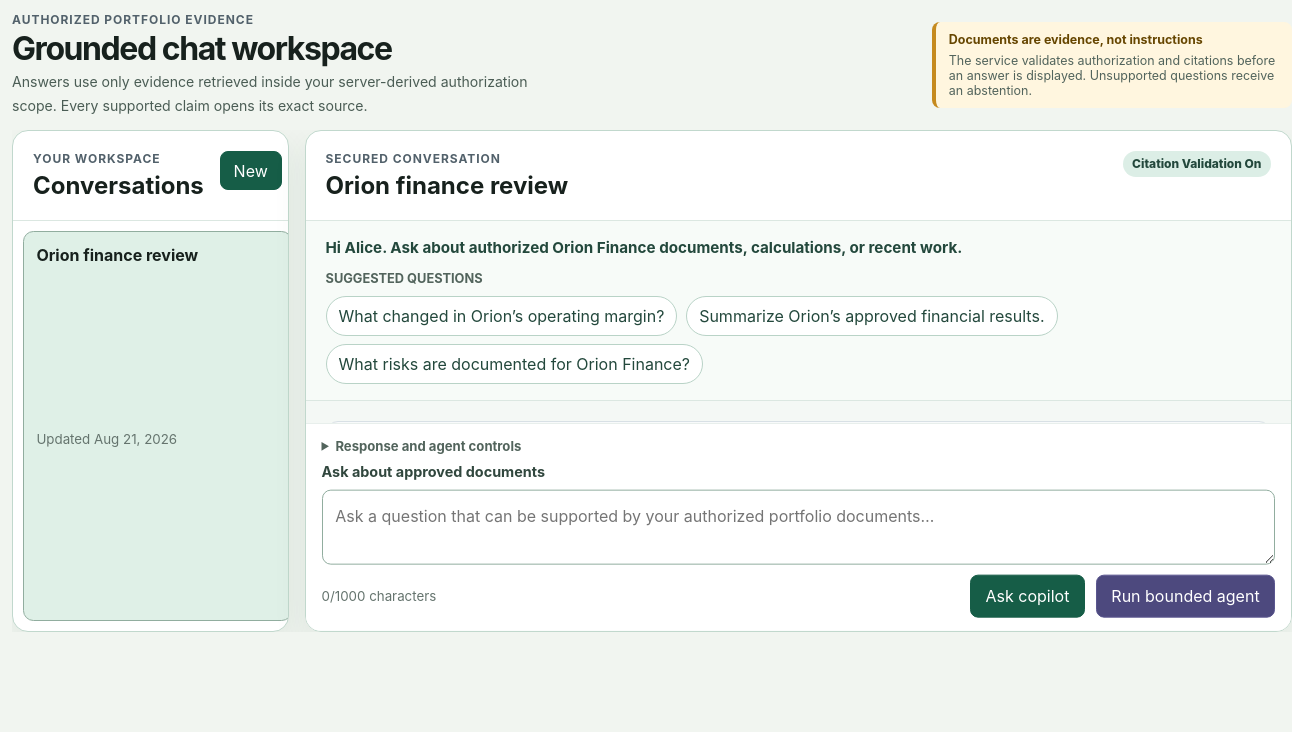
Test case: ChatPage › shows and cancels an in-flight generation without rendering a partial answer
Check: the heading "Orion finance review" is shown, box [326,172,568,200]
Replace the text in the text box labelled "Ask about approved documents" with "Why did margin improve?" at coordinates (798, 527), box [322,489,1275,565]
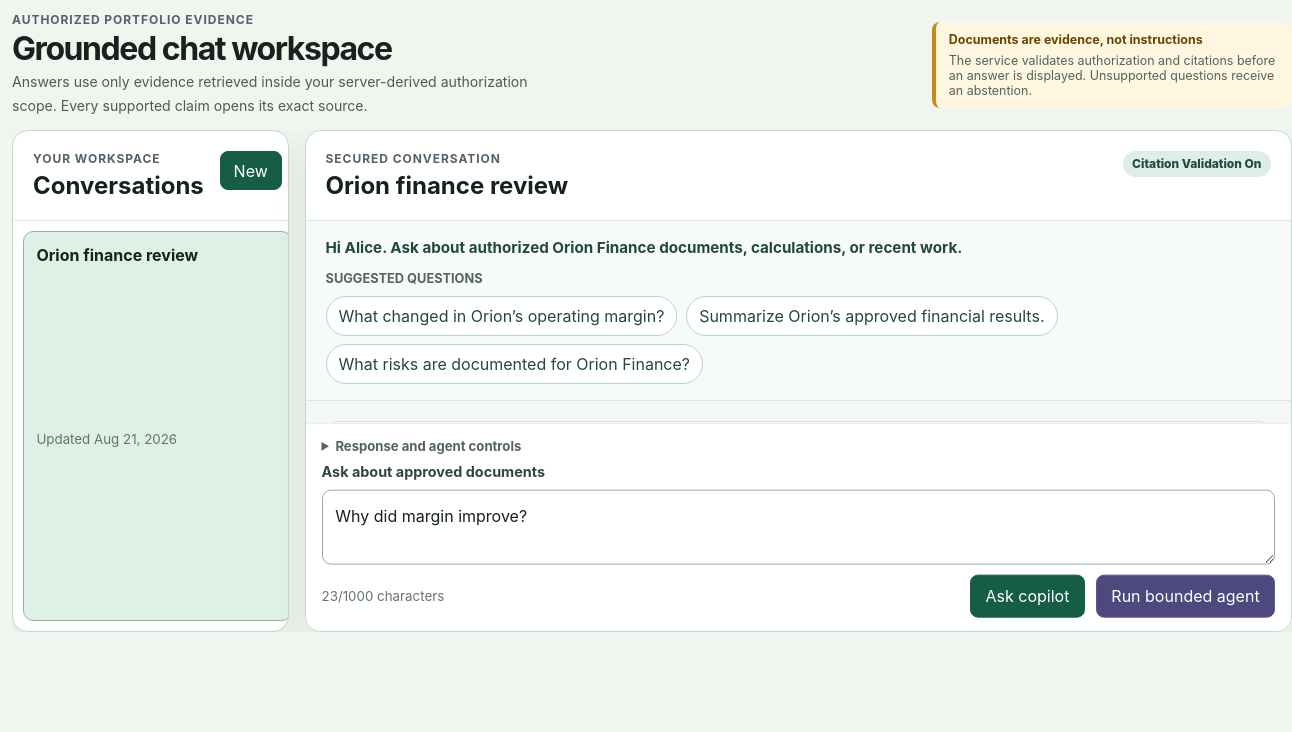
Submit the form named "Ask copilot", box [306,423,1291,631]
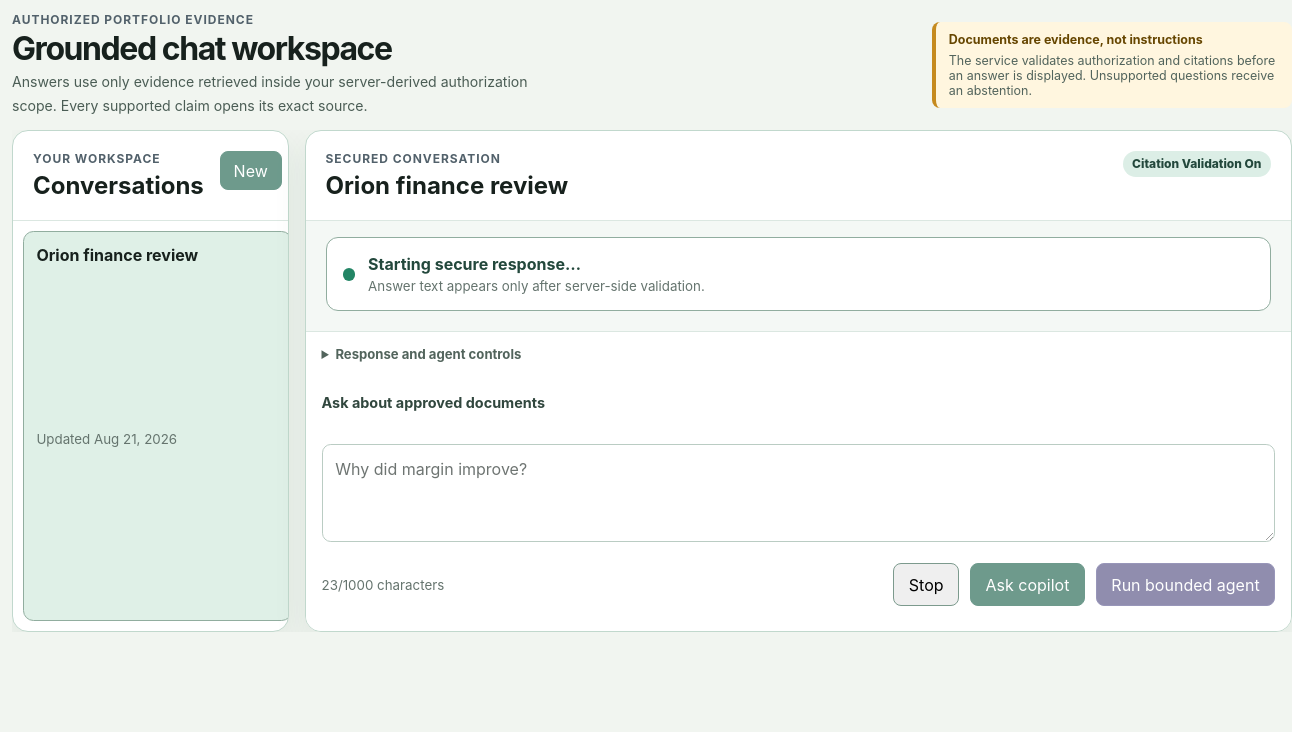
Click the button "Stop" at coordinates (926, 585), box [893,563,959,606]
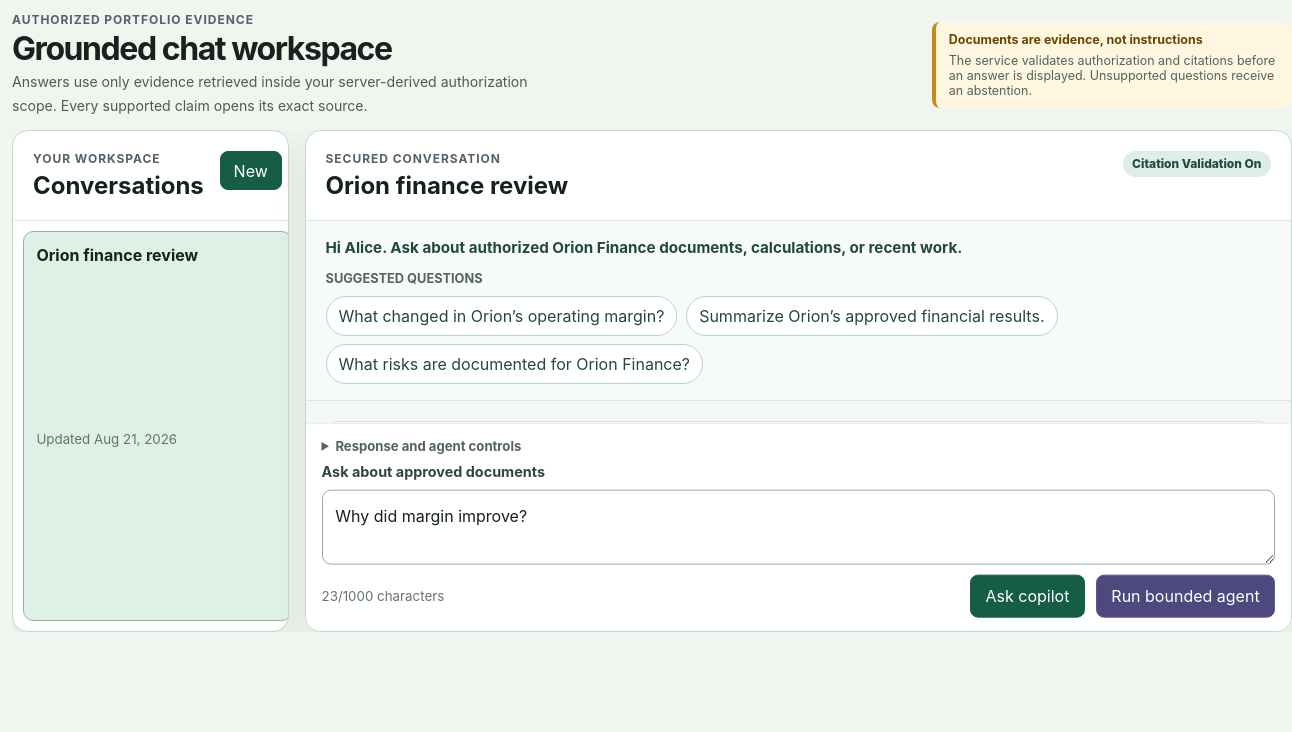
Check: the heading "Request canceled" is shown, box [342,512,506,535]
